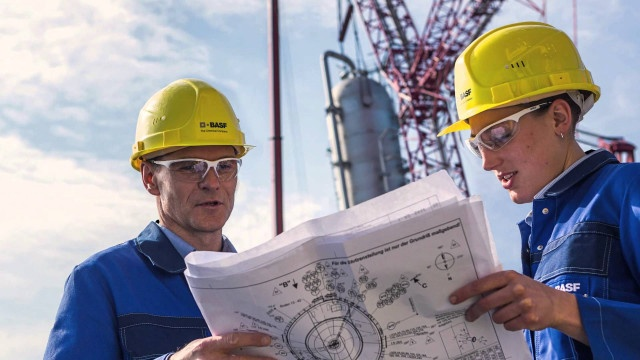yellow: (443, 17, 604, 207), (128, 75, 253, 241)
